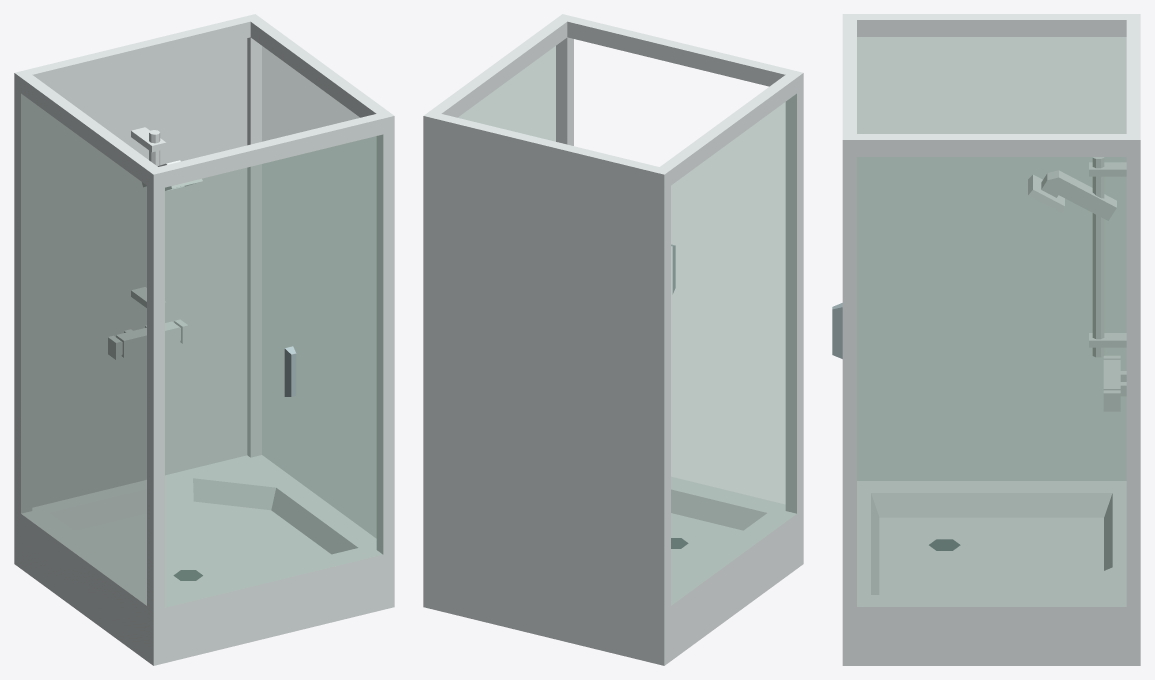
Rendered from shower.f64d4d1f.glb.
3 renders of one model, left to right at view 1: azimuth 30°, elevation 25°; view 2: azimuth 150°, elevation 25°; view 3: azimuth 270°, elevation 25°, orthographic. The views are drawn at different scales.
Parts seen in each view (by area): view 1: model; view 2: model; view 3: model.
Boxes of the visible parts, left/top/right/bottom form: model: left=14, top=14, right=394, bottom=665; model: left=423, top=14, right=803, bottom=665; model: left=832, top=14, right=1140, bottom=665.
Bounding box in the file's own units: 1.18 × 2.3 × 1.22.
